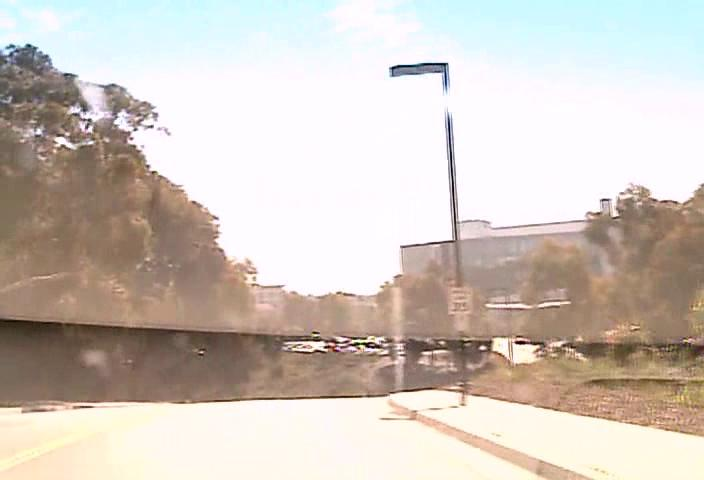speedLimitUrdbl: (447, 284, 472, 315)
